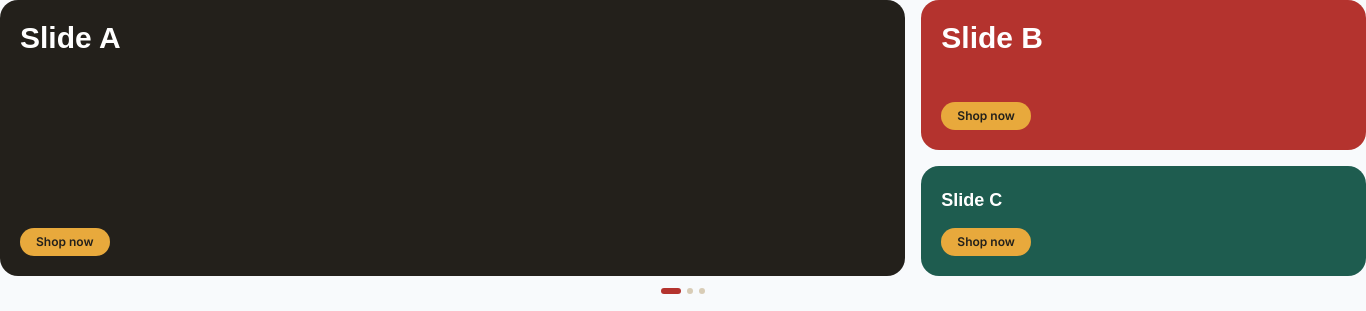
Scenario: HeroPanels › jumps straight to a slide when its dot is clicked
Click the button named "Show slide 3": (702, 291) [699,288,705,294]
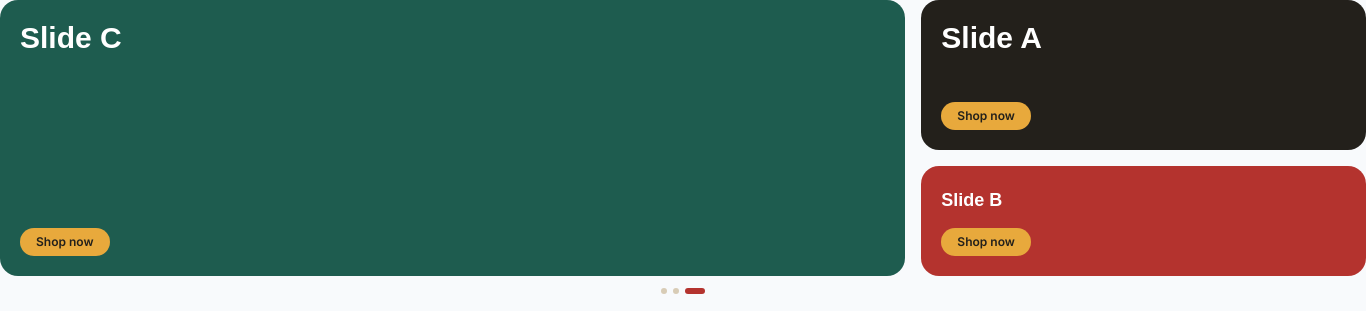
Expected: the heading "Slide C" is shown, [20,21,122,54]
